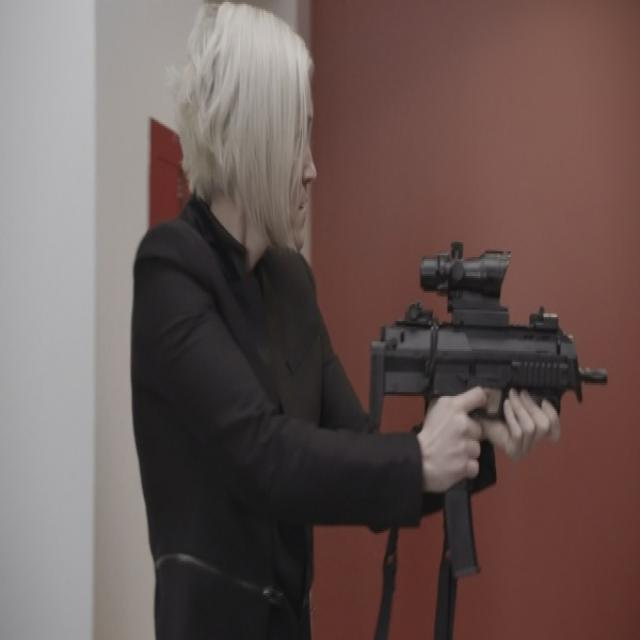rifle: (369, 236, 611, 585)
